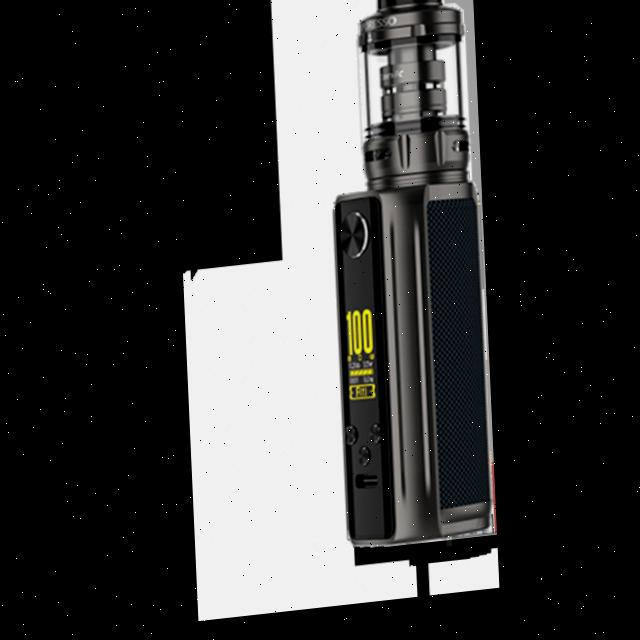vape: (322, 0, 487, 558)
